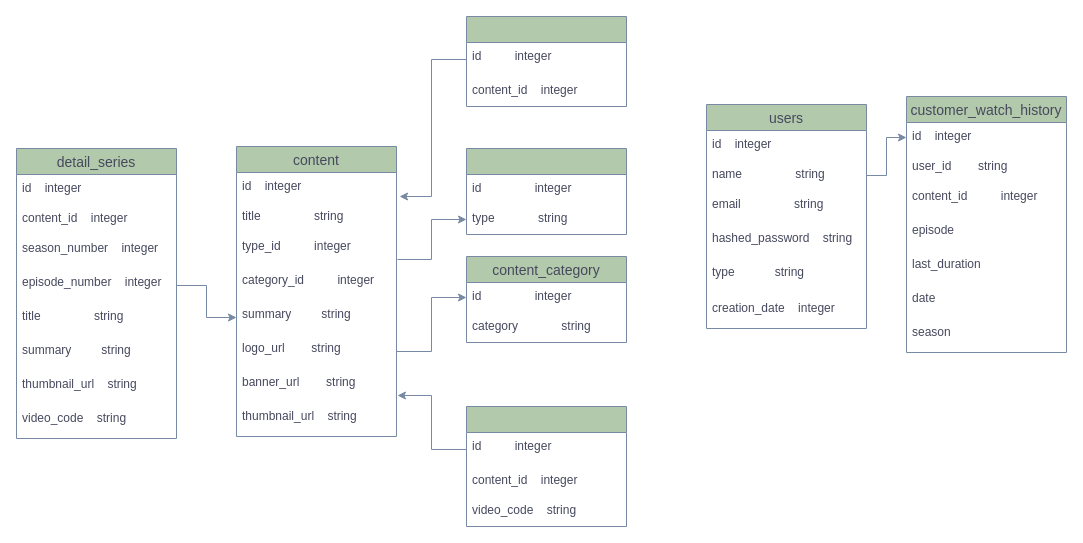
Some shapes in this 1083 by 543 pixel diagram are drawn without their labels. Each missing label, with the box of its shape:
content_top_ten: (466, 16, 626, 106)
content_type: (466, 148, 626, 234)
details_content: (466, 406, 626, 526)
